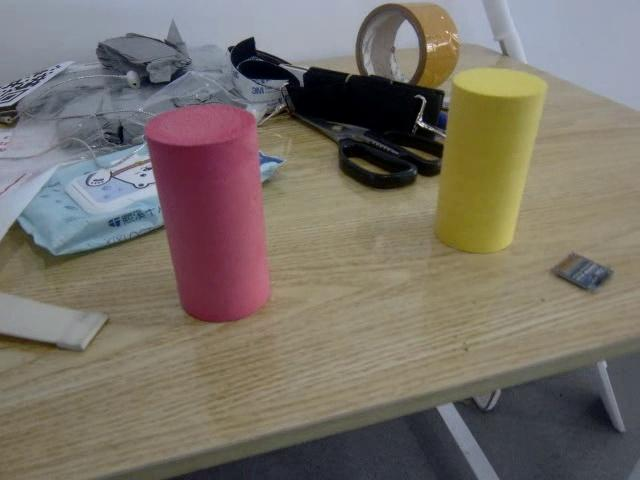red_cylinder: (145, 103, 278, 326)
yellow_cylinder: (440, 62, 545, 255)
